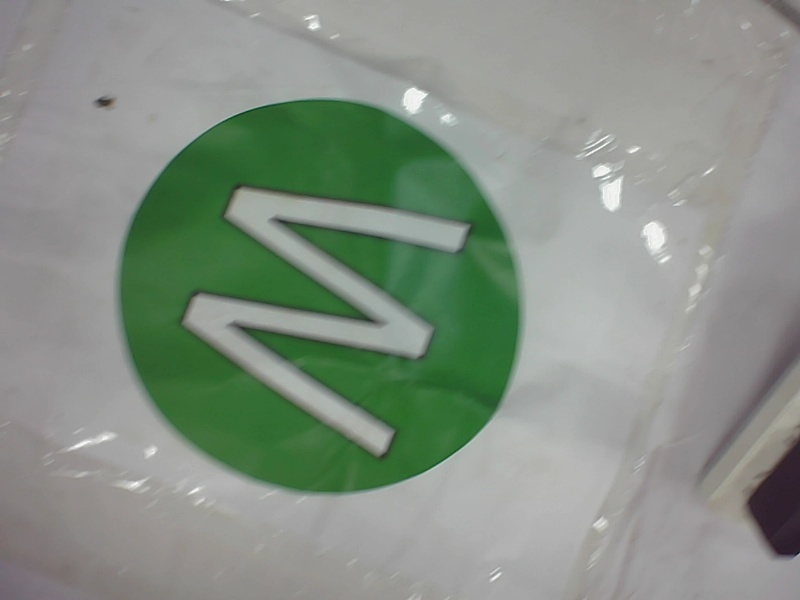areaB: (100, 90, 528, 510)
